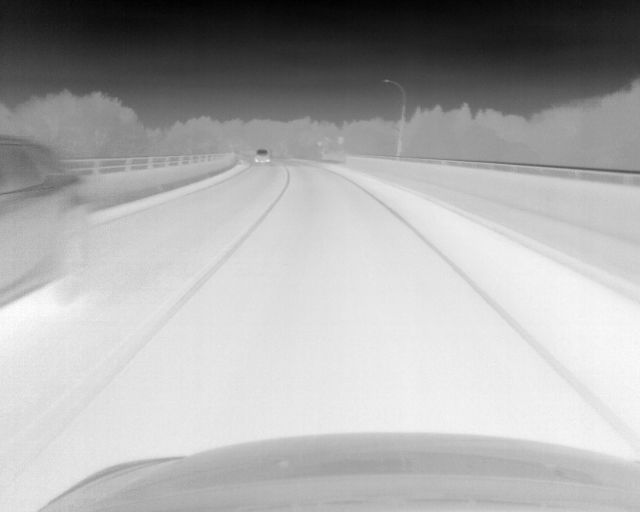car: (1, 134, 86, 307), (254, 149, 269, 163)
